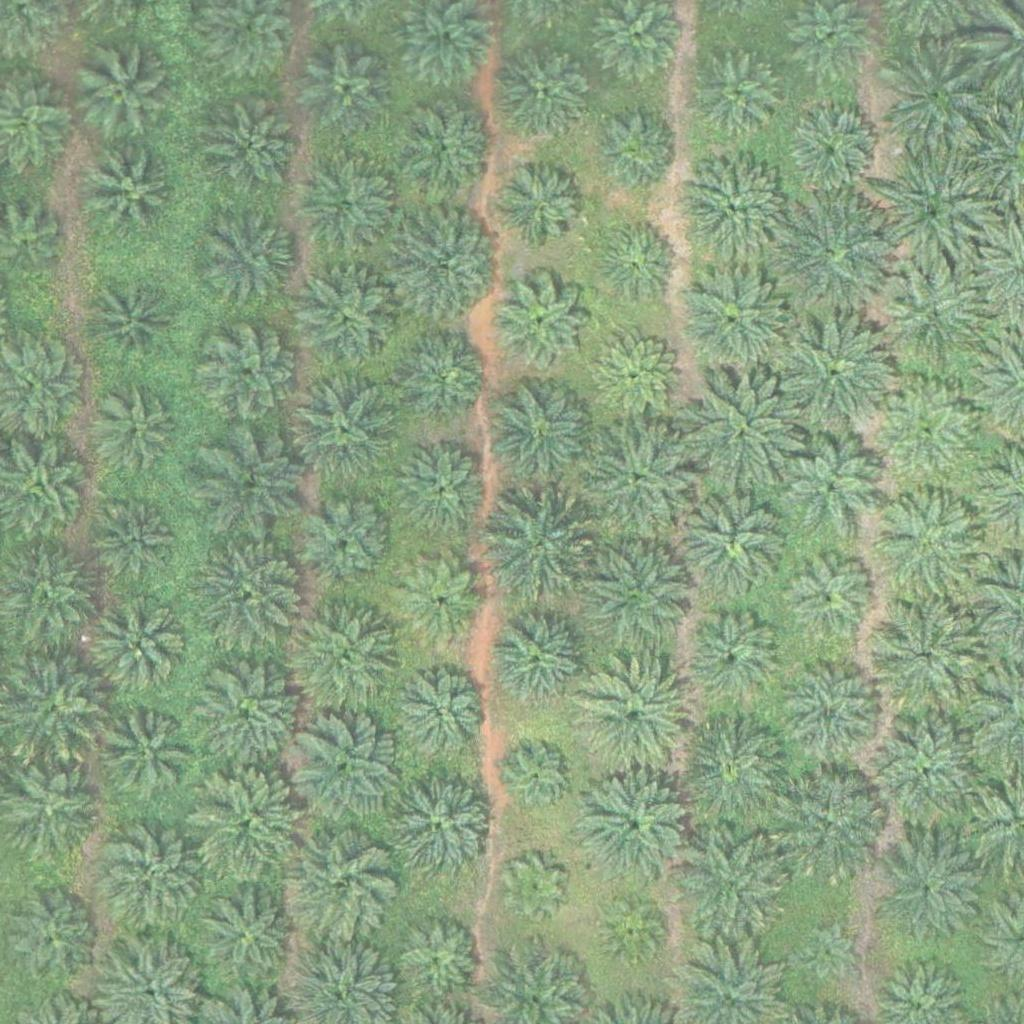Kelapa_Sawit: (290, 262, 403, 376), (390, 208, 503, 322), (487, 378, 600, 492), (479, 491, 592, 605), (873, 837, 986, 951), (196, 543, 309, 656), (191, 662, 304, 775), (485, 600, 598, 713), (577, 662, 690, 775), (676, 151, 789, 264), (677, 267, 790, 380), (780, 200, 893, 313), (778, 318, 891, 431), (874, 490, 987, 603), (866, 599, 979, 712), (871, 718, 984, 831), (579, 773, 692, 886), (284, 828, 397, 941), (189, 766, 302, 879), (191, 886, 304, 999), (585, 423, 697, 537), (582, 535, 694, 649), (679, 603, 791, 717), (773, 772, 885, 886), (676, 715, 788, 829), (882, 43, 994, 156), (196, 422, 308, 535), (289, 369, 401, 482), (286, 600, 398, 713), (686, 373, 798, 486), (680, 486, 792, 599), (877, 158, 989, 271), (879, 260, 991, 373), (679, 828, 791, 941), (388, 772, 500, 885), (288, 713, 400, 826), (98, 820, 210, 933), (494, 40, 594, 141), (82, 277, 182, 378), (89, 595, 189, 696), (198, 318, 298, 419), (295, 489, 395, 590), (779, 435, 879, 536), (875, 381, 975, 482), (95, 704, 195, 805), (201, 97, 301, 197), (76, 44, 176, 144), (206, 205, 306, 305), (298, 153, 398, 253), (392, 327, 492, 427), (392, 441, 492, 541), (489, 273, 589, 373), (782, 664, 882, 764), (790, 108, 878, 196), (397, 673, 485, 761), (496, 164, 584, 252), (594, 218, 682, 306), (591, 332, 679, 420), (394, 913, 482, 1001), (694, 50, 781, 139), (92, 498, 179, 587), (302, 48, 389, 136), (402, 103, 489, 191), (95, 385, 182, 473), (397, 557, 484, 645), (592, 106, 679, 194), (788, 554, 875, 642), (96, 158, 171, 234), (600, 900, 663, 963), (508, 746, 571, 809), (503, 857, 566, 920), (797, 920, 859, 983)
